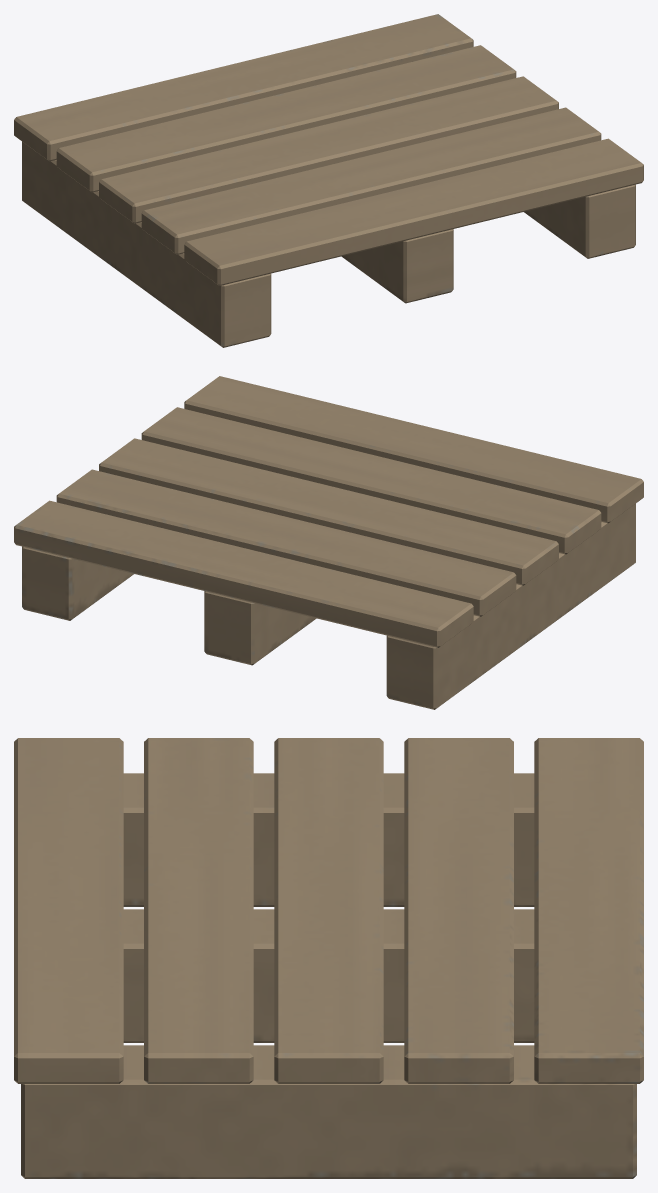
Rendered from wood_pallet_empty.glb.
The picture shows the model from 3 angles, top to bottom: view 1: azimuth 30°, elevation 25°; view 2: azimuth 150°, elevation 25°; view 3: azimuth 270°, elevation 25°; orthographic projection. The views are drawn at different scales.
Visible parts, largest first — view 1: WoodPalletEmpty; view 2: WoodPalletEmpty; view 3: WoodPalletEmpty.
Boxes of the visible parts, bbox=[...] form: WoodPalletEmpty: bbox=[14, 14, 643, 347]; WoodPalletEmpty: bbox=[14, 376, 643, 709]; WoodPalletEmpty: bbox=[14, 738, 643, 1178].
Size of what is drawn, in the model's own units: 1.1 by 0.21 by 0.92.
1 material, 1 textured.
